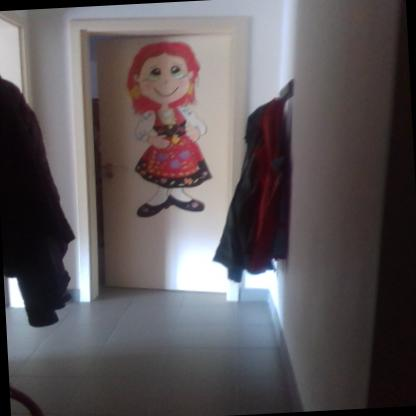semi: (64, 0, 284, 300)
